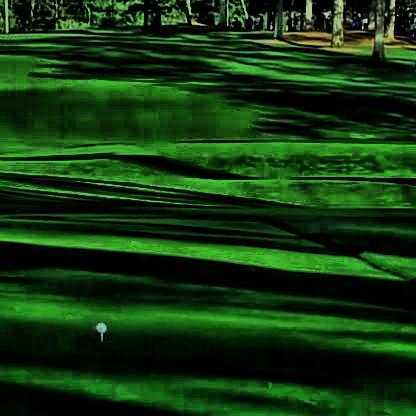golfball: (93, 318, 104, 331)
